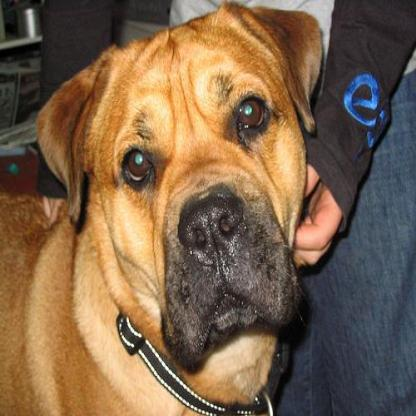bull_mastiff: (0, 2, 322, 414)
